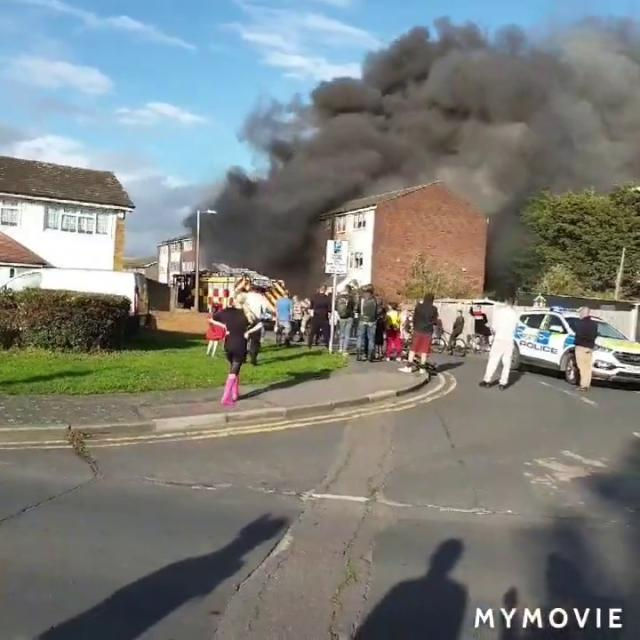Smoke: (188, 6, 640, 269)
